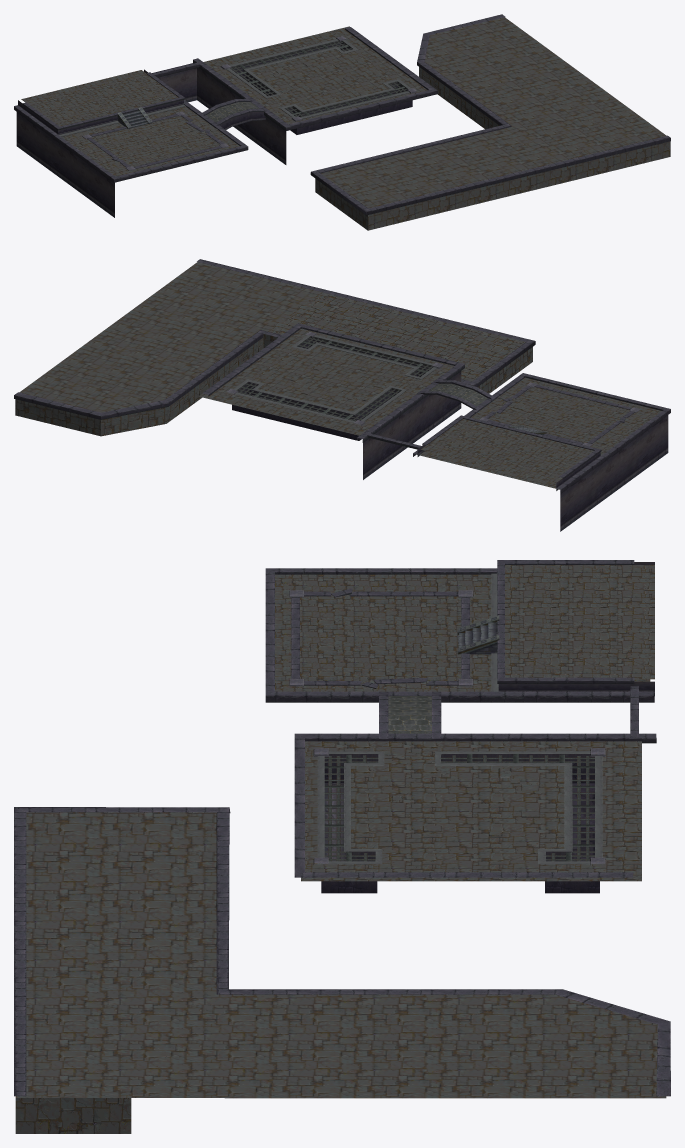
The model's file is terrain_section02_guanka04.FBX.
3 views of the same model, one above another, from view 1: azimuth 30°, elevation 25°; view 2: azimuth 150°, elevation 25°; view 3: azimuth 270°, elevation 25° (orthographic). The views are drawn at different scales.
Visible parts, largest first — view 1: terrain_section02_guanka04; view 2: terrain_section02_guanka04; view 3: terrain_section02_guanka04.
Boxes of the visible parts, x1=… form: terrain_section02_guanka04: x1=14, y1=14, x2=670, y2=230; terrain_section02_guanka04: x1=14, y1=259, x2=670, y2=531; terrain_section02_guanka04: x1=14, y1=560, x2=670, y2=1133.
Bounding box in the file's own units: 112 × 12.51 × 66.71.
